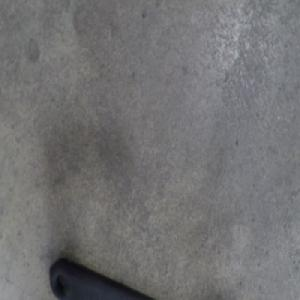AdjustableWrench: (51, 256, 156, 299)
